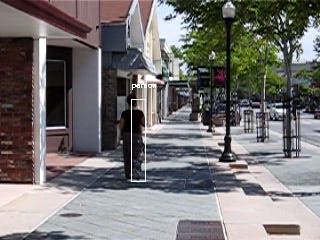person: (119, 93, 147, 182), (118, 93, 146, 182), (120, 93, 148, 182), (119, 92, 147, 181), (119, 94, 147, 183)
target_negative: (86, 64, 229, 186), (78, 124, 156, 232), (219, 43, 281, 124), (260, 93, 283, 233), (79, 93, 106, 170), (24, 48, 31, 142)
